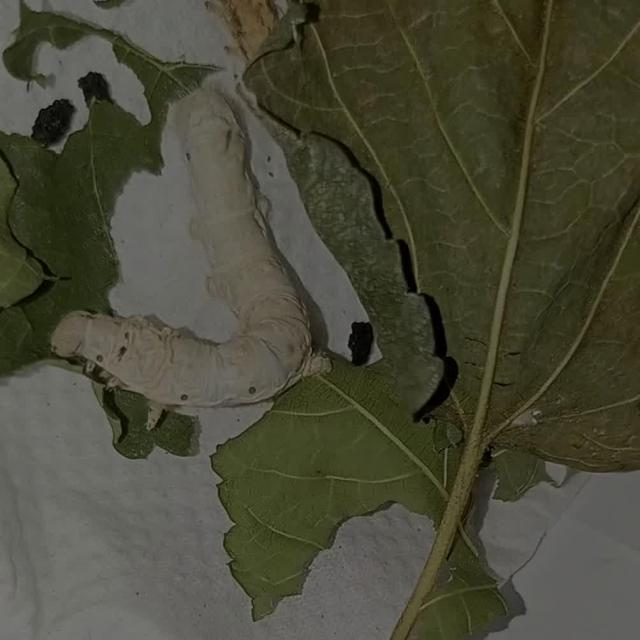Healthy: (25, 56, 332, 435)
